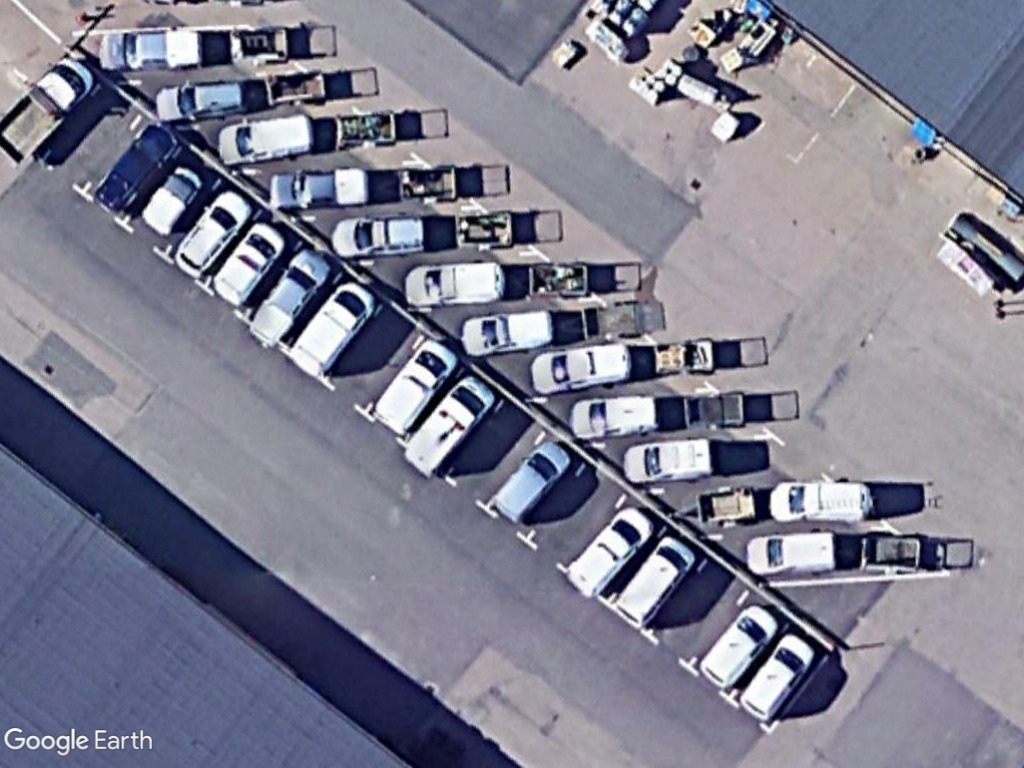car: (168, 186, 256, 282), (733, 632, 819, 725), (696, 600, 782, 690), (397, 255, 512, 310), (153, 74, 248, 126), (330, 214, 431, 261)
other: (1, 54, 95, 179), (244, 247, 335, 351), (93, 31, 211, 81), (266, 165, 373, 213)
van: (397, 374, 498, 475), (560, 505, 661, 602), (371, 337, 458, 441), (286, 277, 378, 375), (487, 436, 577, 528), (611, 536, 700, 629), (524, 339, 638, 400), (207, 219, 283, 307), (454, 302, 560, 363), (216, 110, 316, 168), (764, 478, 877, 526), (619, 435, 720, 488), (741, 528, 839, 580), (566, 392, 663, 444)
